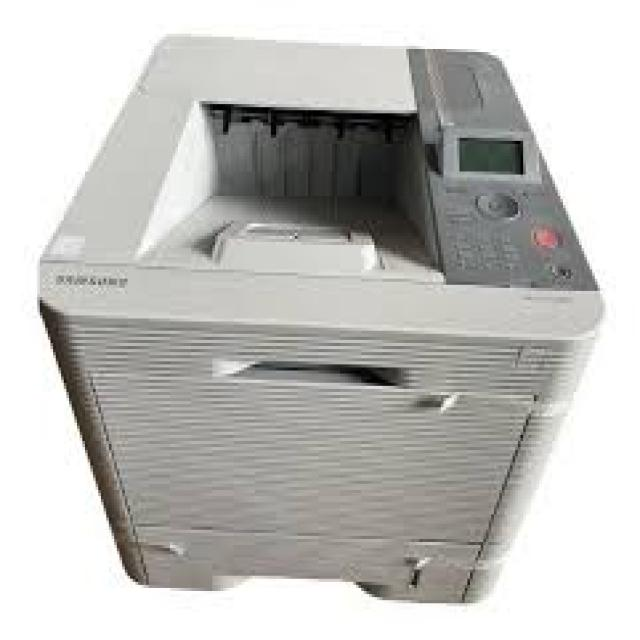printer: (31, 28, 611, 609)
